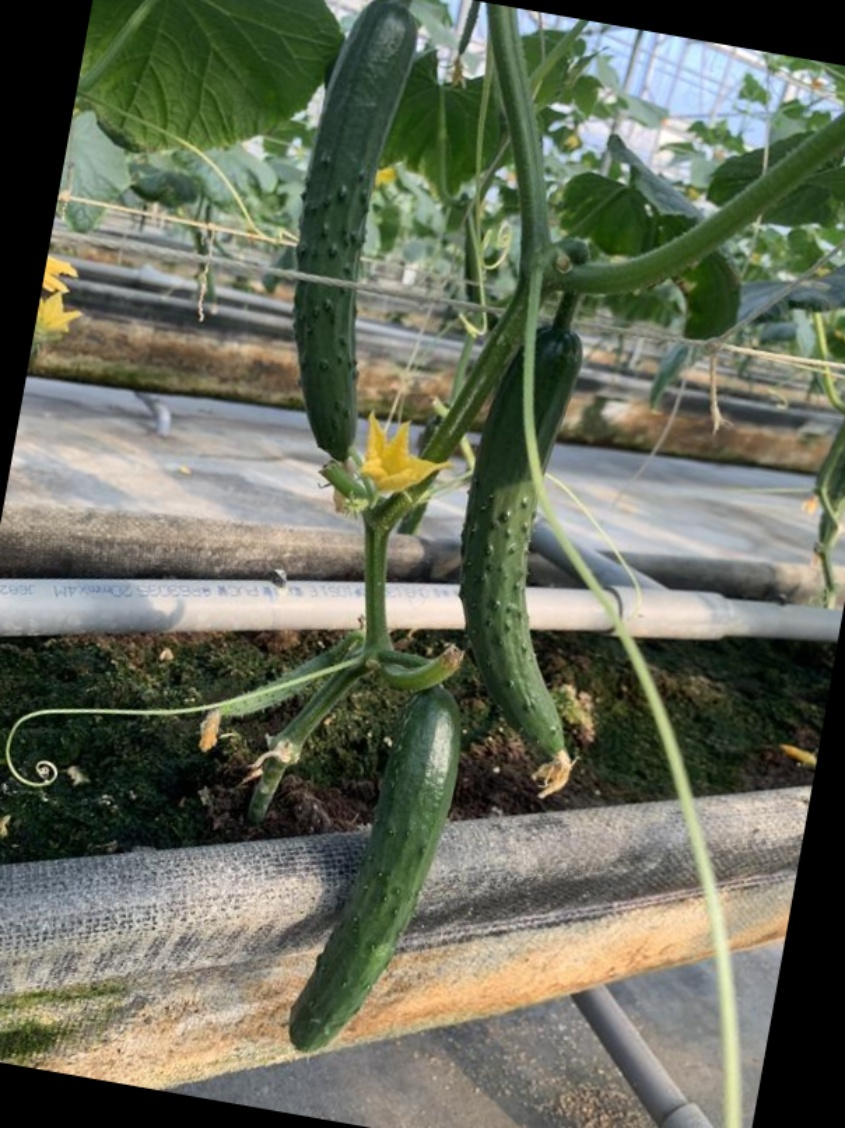mature: (291, 3, 431, 465)
